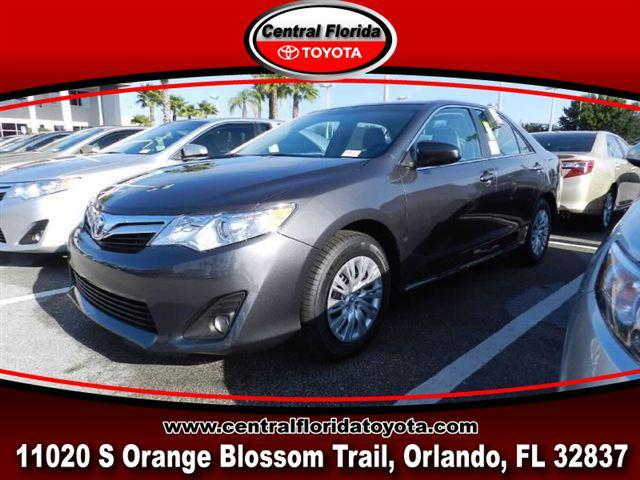Car: (57, 81, 568, 368), (1, 104, 290, 269), (526, 119, 640, 237)
